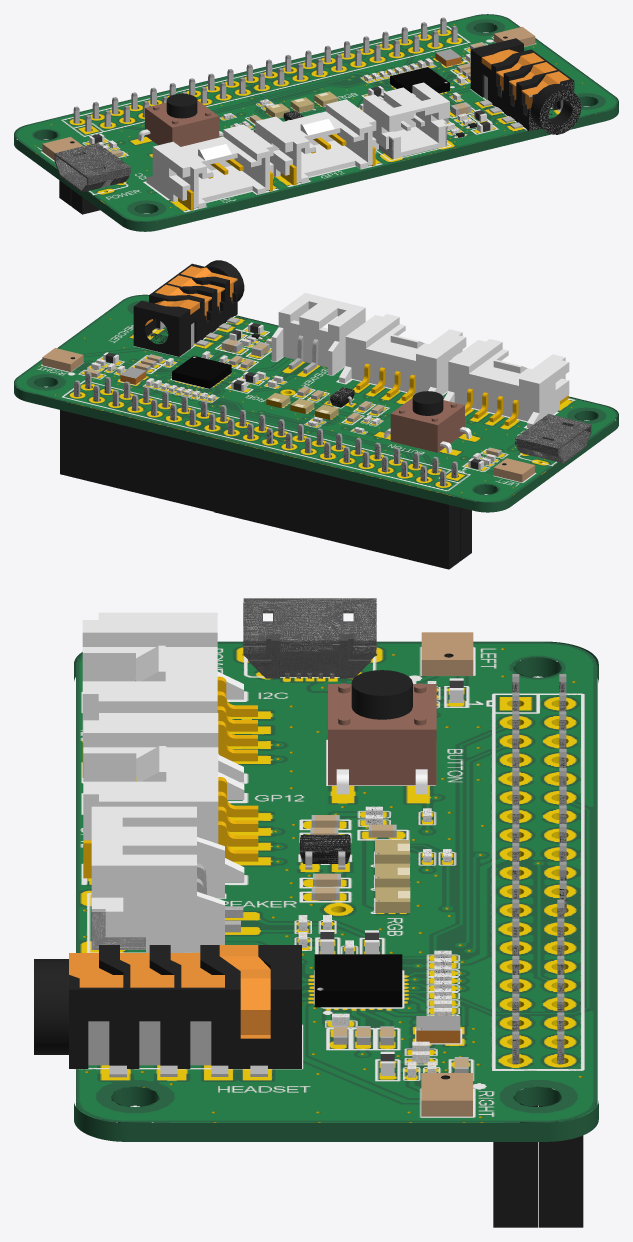
File: ReSpeaker 2-Mics Pi HAT.dae
The picture shows the model from 3 angles, top to bottom: view 1: azimuth 30°, elevation 25°; view 2: azimuth 150°, elevation 25°; view 3: azimuth 270°, elevation 25°; orthographic projection. The views are drawn at different scales.
Parts seen in each view (by area): view 1: SketchUp (×3), HW4-SMD-2.0-90D (×2), AUDIO8P-SMD-3.5-14.5X6.1X4.0MM (×3), JST-SMD-2.0-90D, SW4-SMD-6.0X6.0X5.0MM (×2), MICRO-USB-5P (×2), MIC4-SMD-3.76X2.95MM (×2), QFN32G-0.5-5X5MM, H8-2.54-FEMALE-BLACK; view 2: SketchUp (×2), H8-2.54-FEMALE-BLACK (×4), HW4-SMD-2.0-90D (×2), AUDIO8P-SMD-3.5-14.5X6.1X4.0MM, JST-SMD-2.0-90D, SW4-SMD-6.0X6.0X5.0MM (×2), MICRO-USB-5P (×2), MIC4-SMD-3.76X2.95MM (×2), QFN32G-0.5-5X5MM; view 3: SketchUp (×2), AUDIO8P-SMD-3.5-14.5X6.1X4.0MM (×8), HW4-SMD-2.0-90D (×2), JST-SMD-2.0-90D (×2), SW4-SMD-6.0X6.0X5.0MM (×2), H8-2.54-FEMALE-BLACK (×3), MICRO-USB-5P (×2), QFN32G-0.5-5X5MM, MIC4-SMD-3.76X2.95MM (×2), SOT-23, RGB2020.
Boxes of the visible parts, <box> form: SketchUp (×3): <box>14,14,618,231</box>; HW4-SMD-2.0-90D (×2): <box>146,99,376,208</box>; AUDIO8P-SMD-3.5-14.5X6.1X4.0MM (×3): <box>470,38,581,134</box>; JST-SMD-2.0-90D: <box>363,82,449,158</box>; SW4-SMD-6.0X6.0X5.0MM (×2): <box>145,93,219,146</box>; MICRO-USB-5P (×2): <box>54,142,130,192</box>; MIC4-SMD-3.76X2.95MM (×2): <box>42,26,535,160</box>; QFN32G-0.5-5X5MM: <box>390,67,449,93</box>; H8-2.54-FEMALE-BLACK: <box>71,189,99,214</box>; SketchUp (×2): <box>14,294,618,512</box>; H8-2.54-FEMALE-BLACK (×4): <box>60,410,471,569</box>; HW4-SMD-2.0-90D (×2): <box>339,314,569,427</box>; AUDIO8P-SMD-3.5-14.5X6.1X4.0MM: <box>133,260,244,356</box>; JST-SMD-2.0-90D: <box>271,293,365,375</box>; SW4-SMD-6.0X6.0X5.0MM (×2): <box>390,391,464,452</box>; MICRO-USB-5P (×2): <box>515,414,591,463</box>; MIC4-SMD-3.76X2.95MM (×2): <box>42,348,534,482</box>; QFN32G-0.5-5X5MM: <box>172,356,231,388</box>; SketchUp (×2): <box>74,641,598,1141</box>; AUDIO8P-SMD-3.5-14.5X6.1X4.0MM (×8): <box>34,945,301,1077</box>; HW4-SMD-2.0-90D (×2): <box>82,612,244,882</box>; JST-SMD-2.0-90D (×2): <box>91,806,224,952</box>; SW4-SMD-6.0X6.0X5.0MM (×2): <box>328,670,436,785</box>; H8-2.54-FEMALE-BLACK (×3): <box>493,1105,583,1227</box>; MICRO-USB-5P (×2): <box>243,598,376,678</box>; QFN32G-0.5-5X5MM: <box>314,954,402,1007</box>; MIC4-SMD-3.76X2.95MM (×2): <box>421,632,473,1116</box>; SOT-23: <box>300,835,350,863</box>; RGB2020: <box>375,887,410,912</box>.
Bounding box in the file's own units: 2588 × 1270 × 602.
Materials: 28 (2 with a texture image).
